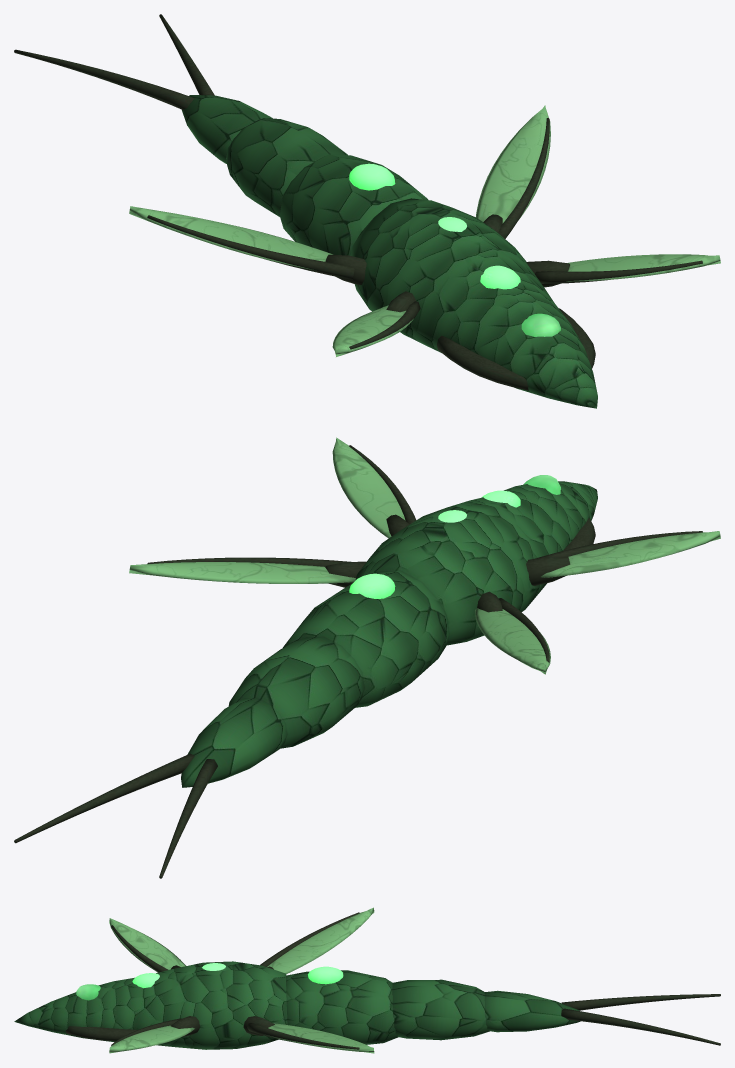
The model's file is seeker.glb.
3 views of the same model, one above another, from view 1: azimuth 30°, elevation 25°; view 2: azimuth 150°, elevation 25°; view 3: azimuth 270°, elevation 25° (orthographic). The views are drawn at different scales.
Parts seen in each view (by area): view 1: Seeker, tail1, tail2, tail3, fin_rr, fin_rl, fin_fl, fin_fr, signal3, signal1, eye; view 2: Seeker, tail1, tail2, tail3, fin_rl, fin_fr, fin_fl, fin_rr, signal3; view 3: Seeker, tail1, tail2, tail3, fin_rr, fin_rl, fin_fr, fin_fl, signal3, eye, signal1.
Part boxes in pixels (x1,y1,x2,y2): Seeker: (350, 198, 597, 408); tail1: (280, 154, 428, 255); tail2: (226, 118, 347, 216); tail3: (14, 14, 272, 163); fin_rr: (129, 206, 366, 284); fin_rl: (476, 105, 550, 238); fin_fl: (526, 254, 720, 287); fin_fr: (332, 291, 420, 356); signal3: (349, 163, 395, 190); signal1: (480, 265, 520, 289); eye: (521, 313, 560, 336); Seeker: (355, 481, 597, 645); tail1: (283, 570, 449, 707); tail2: (228, 636, 364, 748); tail3: (14, 698, 287, 878); fin_rl: (129, 557, 366, 587); fin_fr: (526, 531, 720, 585); fin_fl: (332, 437, 416, 538); fin_rr: (475, 591, 550, 674); signal3: (349, 573, 395, 598); Seeker: (14, 961, 287, 1049); tail1: (279, 970, 398, 1044); tail2: (392, 979, 489, 1040); tail3: (484, 990, 720, 1045); fin_rr: (260, 907, 374, 974); fin_rl: (243, 1016, 374, 1053); fin_fr: (109, 918, 185, 972); fin_fl: (109, 1016, 199, 1053); signal3: (308, 966, 343, 984); eye: (76, 984, 100, 1000); signal1: (132, 973, 159, 988).
Bounding box in the file's own units: 0.3316 × 0.0812 × 0.7024.
5 materials, 5 textured.
